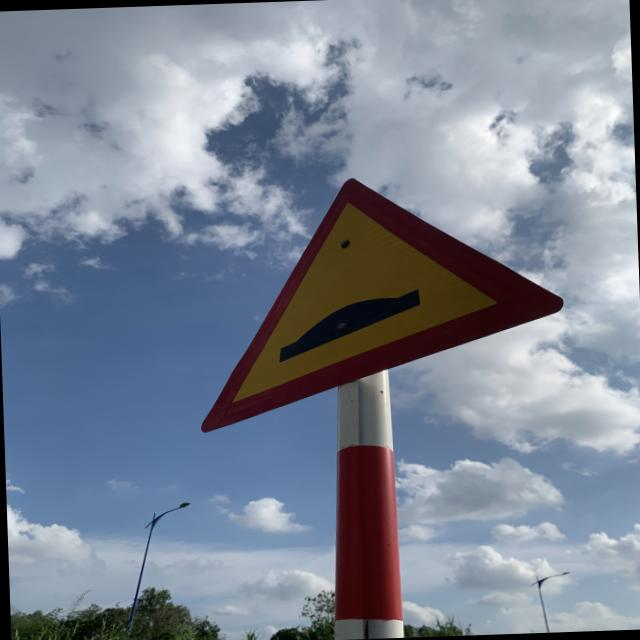Duong_Cong_Ben_Phai: (189, 167, 572, 437)
